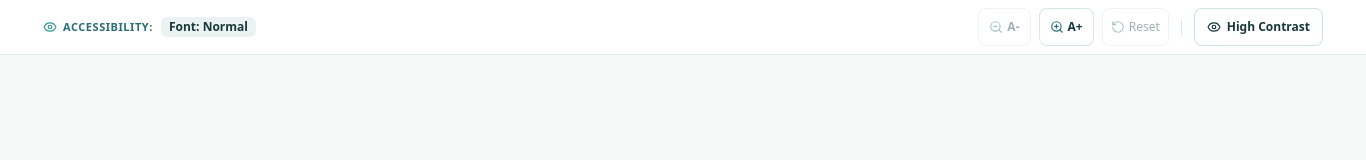
Test: Accessibility Controls & Context › steps font size through normal -> large -> extra-large and enforces maximum limit
The image size is (1366, 160).
Expected: the button titled "Decrease text size" is disabled, x1=978 y1=8 x2=1031 y2=46
Click the button titled "Increase text size" at [1066, 27], box x1=1038 y1=8 x2=1094 y2=46
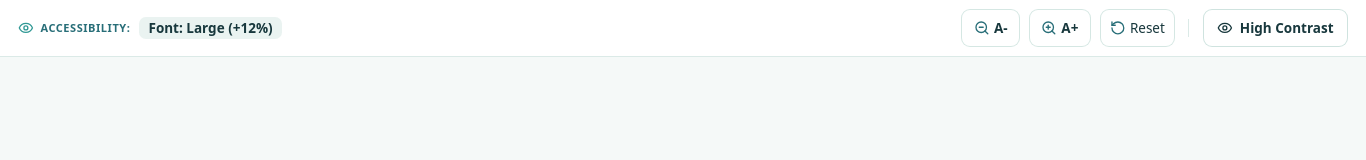
Expected: the text "Font: Large (+12%)" is shown, x1=140 y1=17 x2=282 y2=39
Expected: the button titled "Decrease text size" is enabled, x1=961 y1=9 x2=1020 y2=47
Click the button titled "Increase text size" at [1060, 28], box x1=1029 y1=9 x2=1091 y2=47
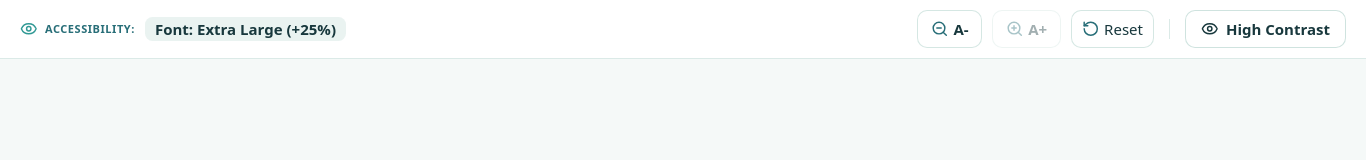
Expected: the text "Font: Extra Large (+25%)" is shown, x1=145 y1=16 x2=346 y2=42
Expected: the button titled "Increase text size" is disabled, x1=992 y1=10 x2=1061 y2=48
